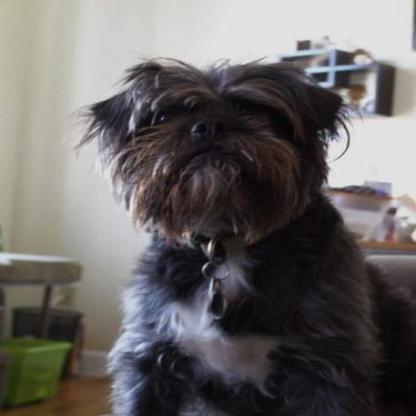affenpinscher: (90, 60, 410, 414)
